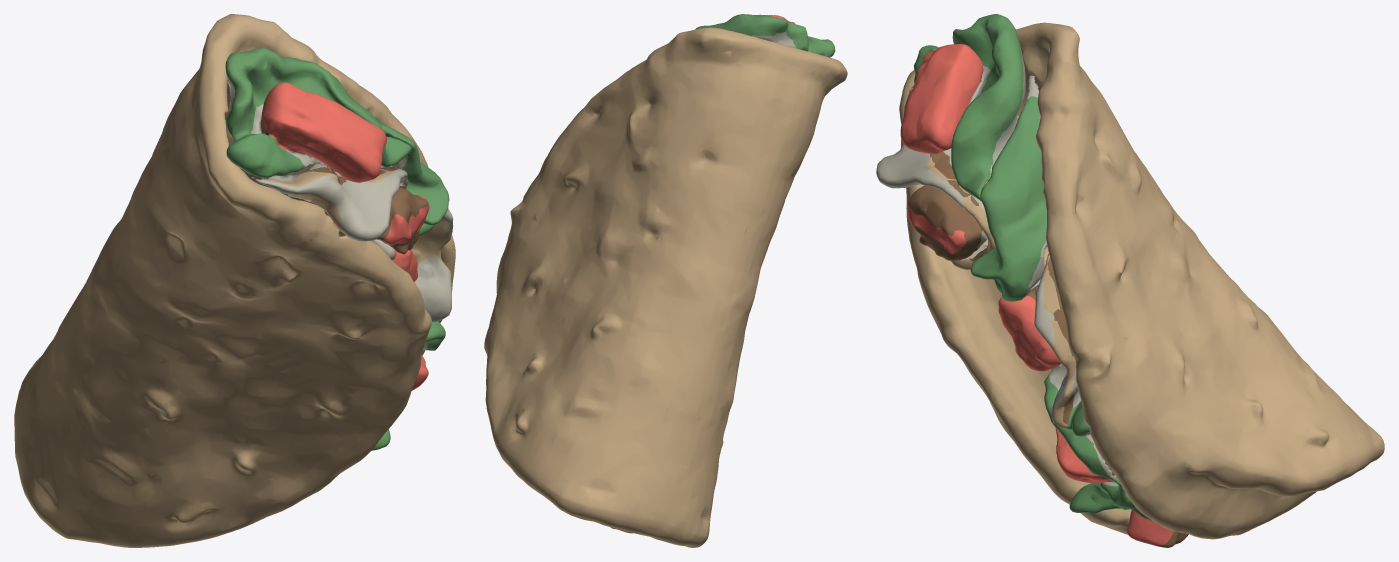
Rendered from Stack 1C - Taco.glb.
3 renders of one model, left to right at view 1: azimuth 30°, elevation 25°; view 2: azimuth 150°, elevation 25°; view 3: azimuth 270°, elevation 25°, orthographic. The views are drawn at different scales.
Parts seen in each view (by area): view 1: Stack 1C - Taco · part 1, Stack 1C - Taco · part 2, Stack 1C - Taco · part 7, Stack 1C - Taco · part 10, Stack 1C - Taco · part 5, Stack 1C - Taco · part 8; view 2: Stack 1C - Taco · part 1, Stack 1C - Taco · part 2; view 3: Stack 1C - Taco · part 1, Stack 1C - Taco · part 2, Stack 1C - Taco · part 5, Stack 1C - Taco · part 7, Stack 1C - Taco · part 8, Stack 1C - Taco · part 10, Stack 1C - Taco · part 11, Stack 1C - Taco · part 12, Stack 1C - Taco · part 3, Stack 1C - Taco · part 4, Stack 1C - Taco · part 6.
Boxes of the visible parts, <box> form: Stack 1C - Taco · part 1: <box>14,14,455,547</box>; Stack 1C - Taco · part 2: <box>225,47,411,182</box>; Stack 1C - Taco · part 7: <box>251,162,408,260</box>; Stack 1C - Taco · part 10: <box>411,209,453,322</box>; Stack 1C - Taco · part 5: <box>377,120,449,236</box>; Stack 1C - Taco · part 8: <box>377,187,429,254</box>; Stack 1C - Taco · part 1: <box>484,27,847,547</box>; Stack 1C - Taco · part 2: <box>695,14,835,57</box>; Stack 1C - Taco · part 1: <box>899,22,1384,539</box>; Stack 1C - Taco · part 2: <box>900,14,1025,201</box>; Stack 1C - Taco · part 5: <box>970,75,1047,301</box>; Stack 1C - Taco · part 7: <box>876,84,995,269</box>; Stack 1C - Taco · part 8: <box>907,185,986,260</box>; Stack 1C - Taco · part 10: <box>1034,254,1090,436</box>; Stack 1C - Taco · part 11: <box>998,289,1061,371</box>; Stack 1C - Taco · part 12: <box>1044,364,1135,509</box>; Stack 1C - Taco · part 3: <box>1127,510,1188,547</box>; Stack 1C - Taco · part 4: <box>1055,428,1116,483</box>; Stack 1C - Taco · part 6: <box>1069,475,1152,520</box>.
Bounding box in the file's own units: 0.6152 × 1 × 0.915.
